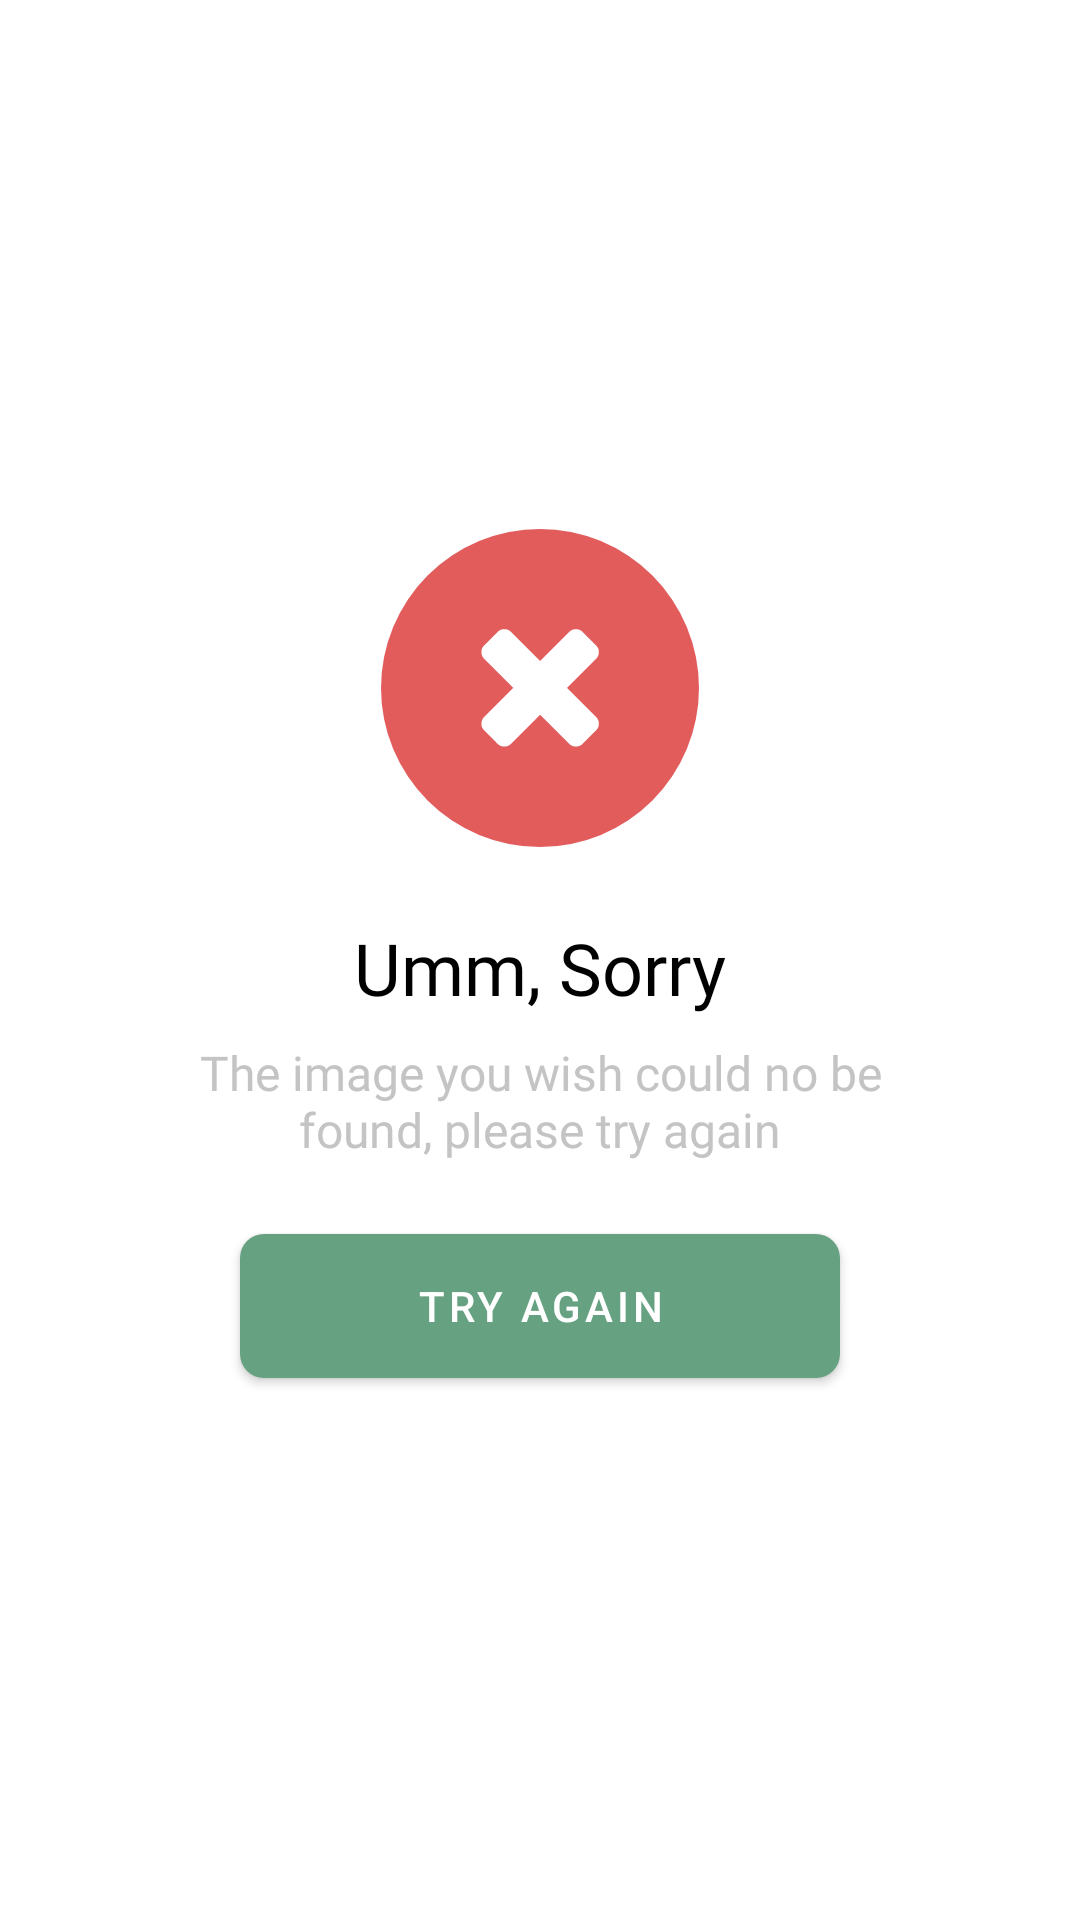

Icon click points for this 1080 x 1920 phone screenshot, format point (x, y):
error: point (540, 688)
